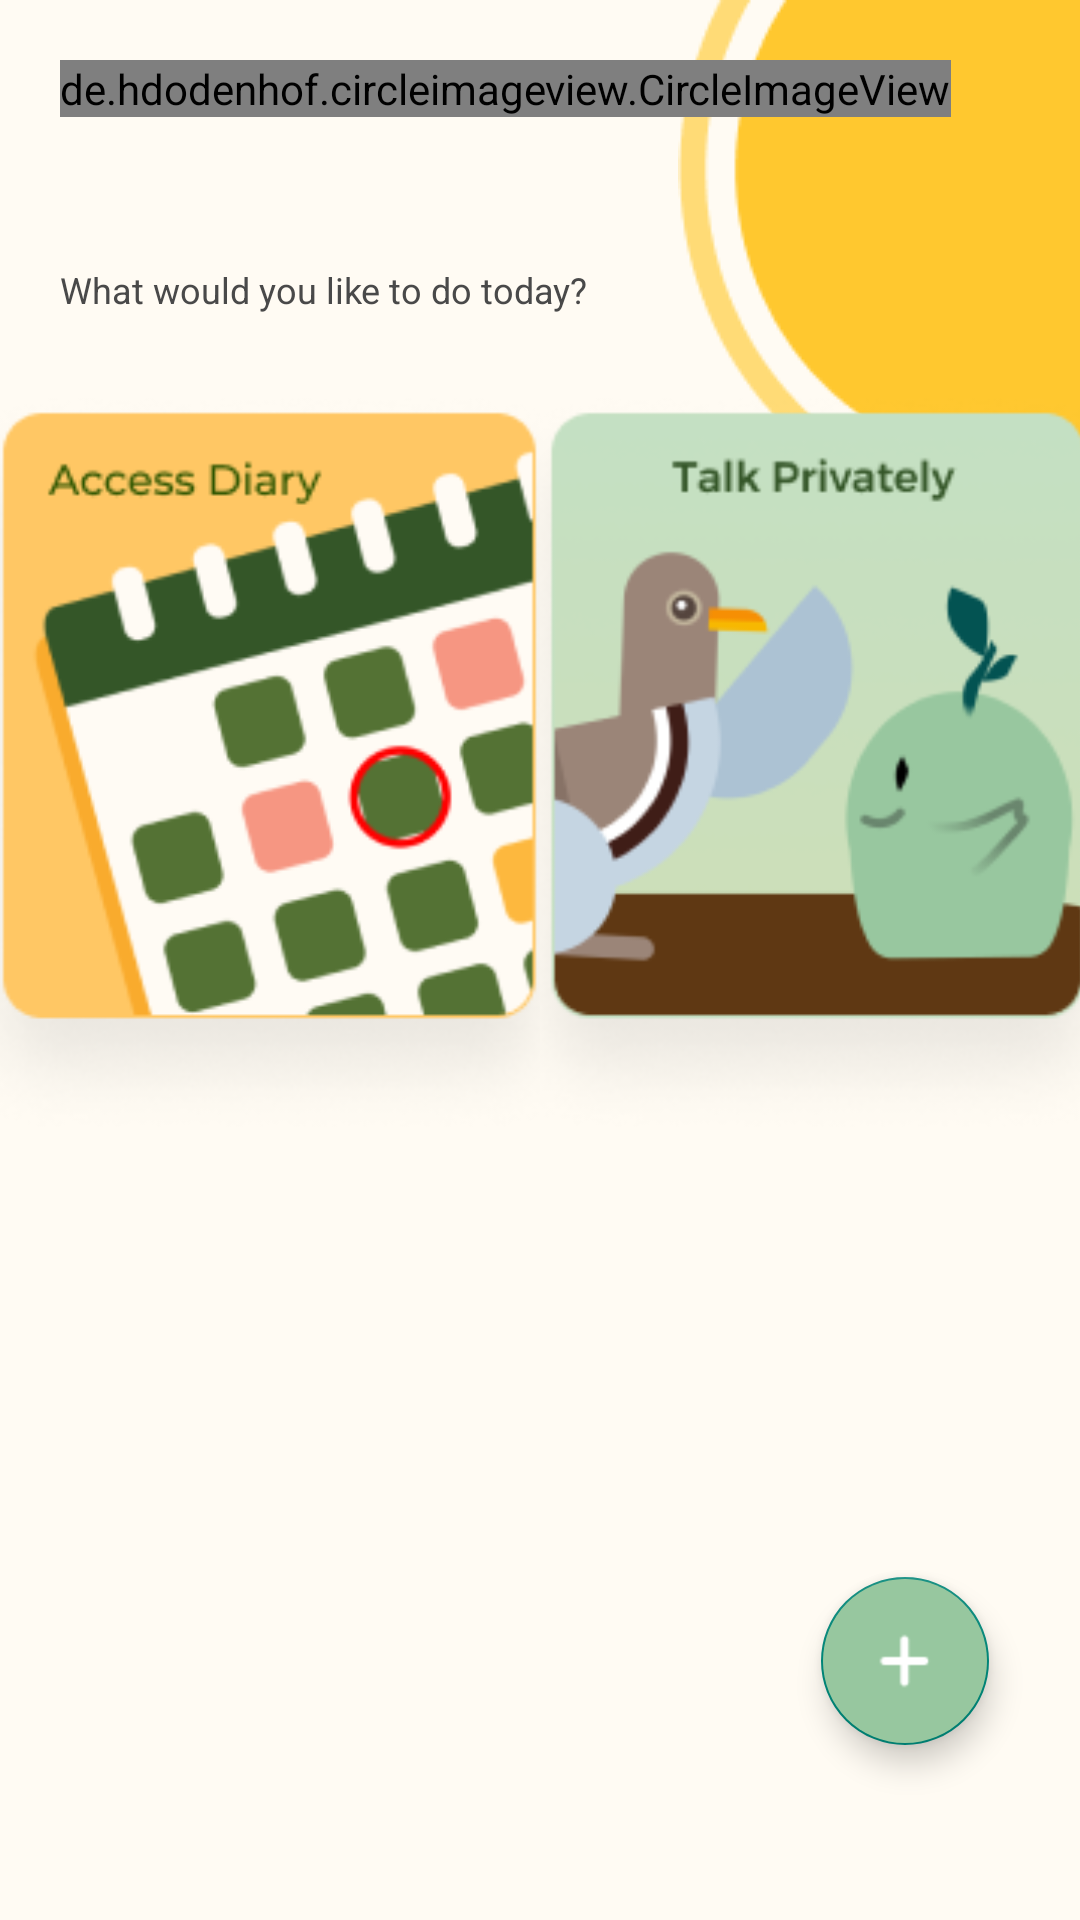

Named icons in this screenshot (1080px x 1920px) and their centers, (x,y):
iconpuls: (905,1661)
